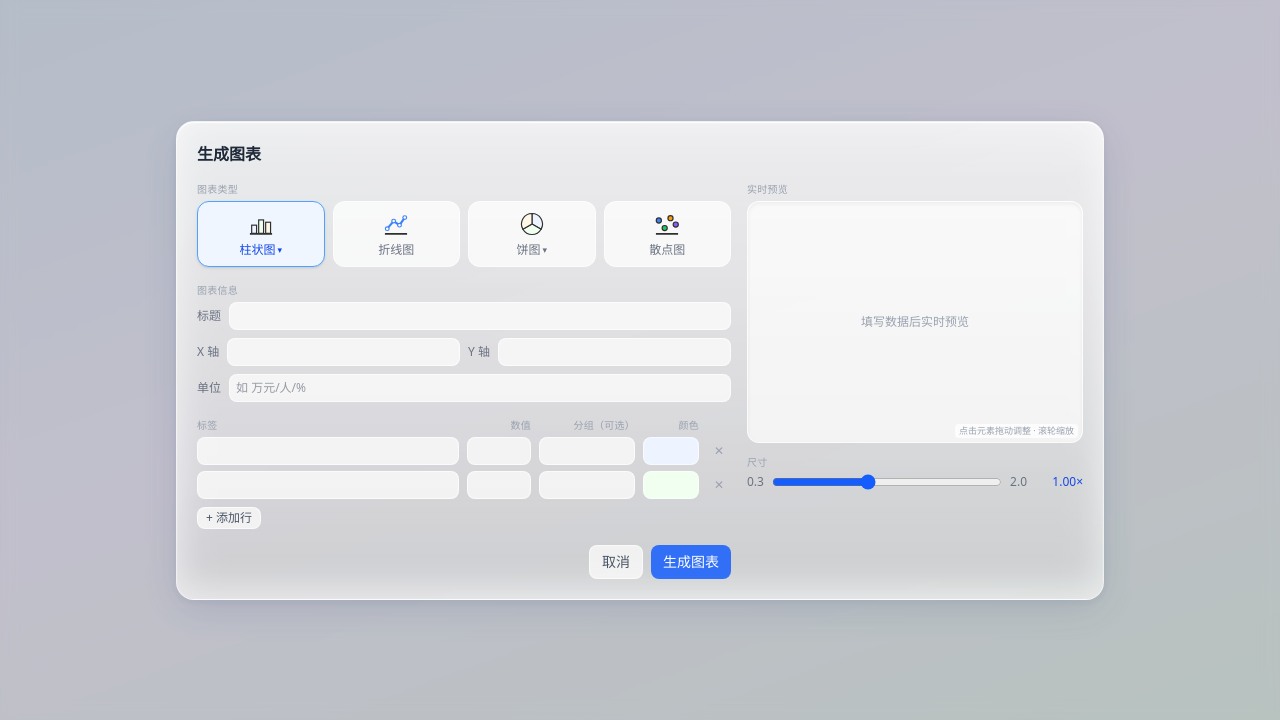
Test: ChartDialog › 饼图隐藏无意义字段：无 X/Y 轴输入、无分组列
expect the field named "X 轴名" is shown: met, box 227,338 -> 460,366
expect the field named "Y 轴名" is shown: met, box 498,338 -> 731,366
# 切到饼图：轴与分组全部隐藏，数据行只剩标签/数值
Click the button "饼图 ▾" at (532, 234), box 468,200 -> 596,266
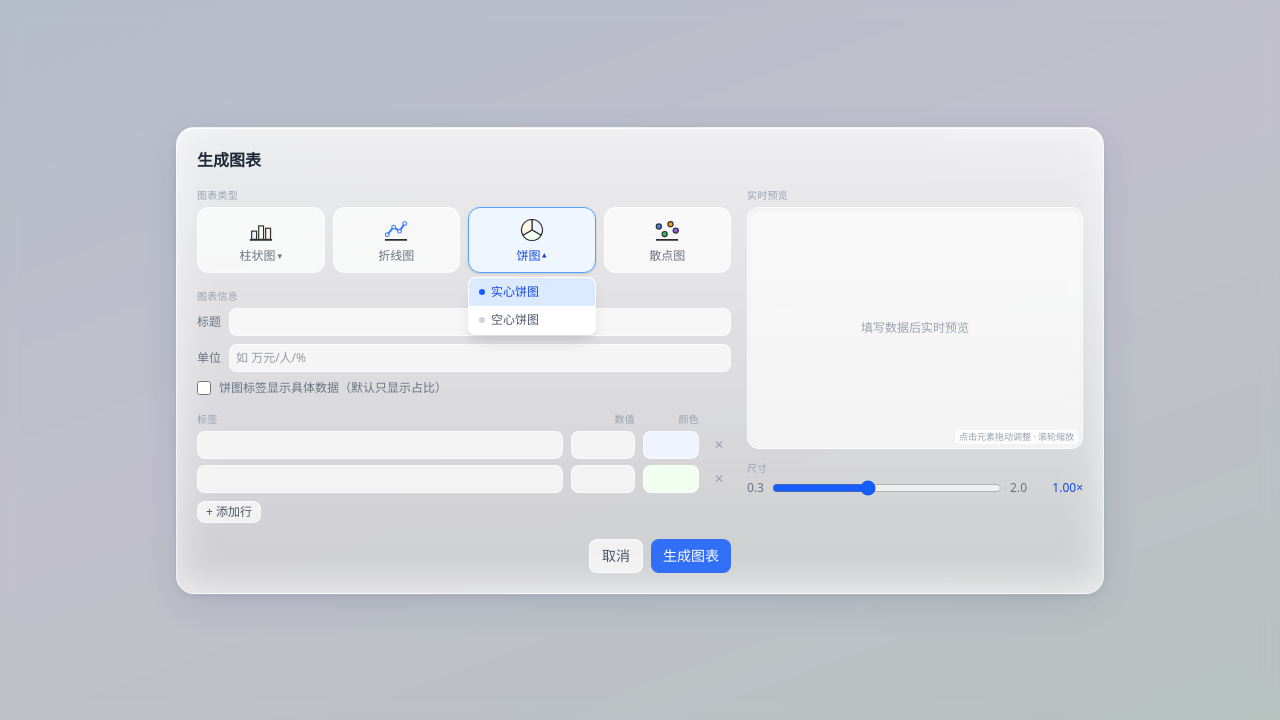
expect the number of fields named "标签 1" is 2: met, box 197,430 -> 563,458; 197,464 -> 563,492
expect the number of fields named "数值 1" is 2: met, box 571,430 -> 635,458; 571,464 -> 635,492
